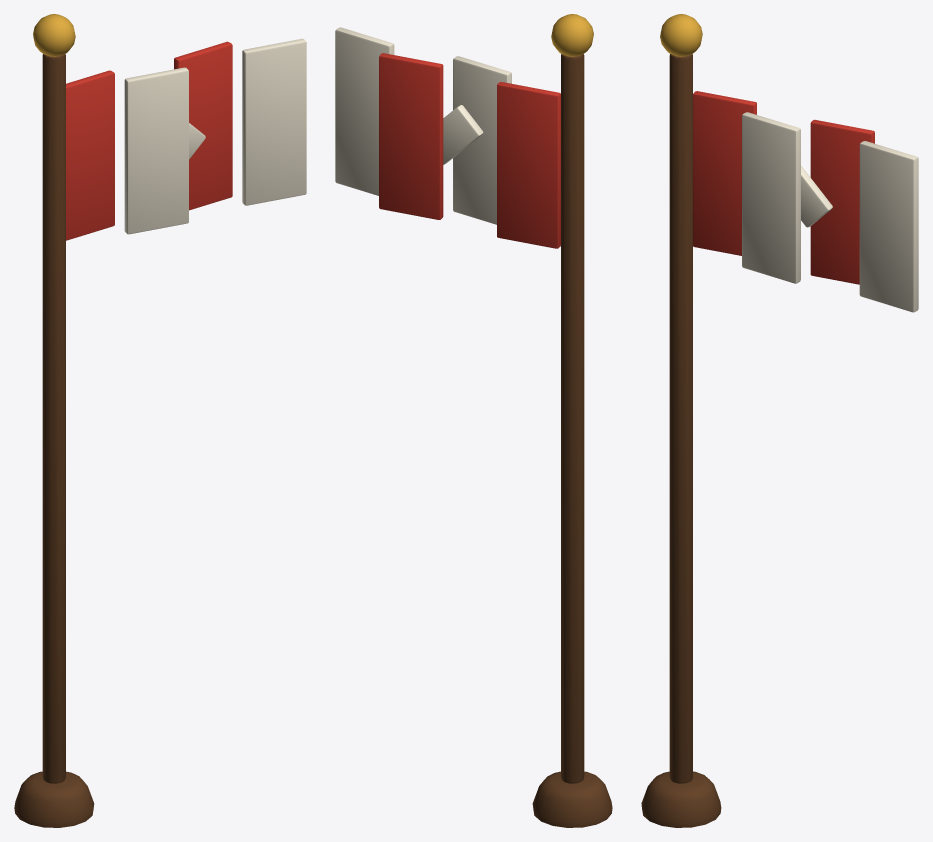
The model's file is FlagPole.fbx.
3 renders of one model, left to right at view 1: azimuth 30°, elevation 25°; view 2: azimuth 150°, elevation 25°; view 3: azimuth 330°, elevation 25°, orthographic.
Visible parts, largest first — view 1: FlagPole; view 2: FlagPole; view 3: FlagPole.
Part boxes in pixels (x1=…): FlagPole: x1=14, y1=14, x2=306, y2=827; FlagPole: x1=335, y1=14, x2=612, y2=827; FlagPole: x1=641, y1=14, x2=918, y2=827.
Size of the model in its own units: 1.04 by 2.85 by 0.261.
